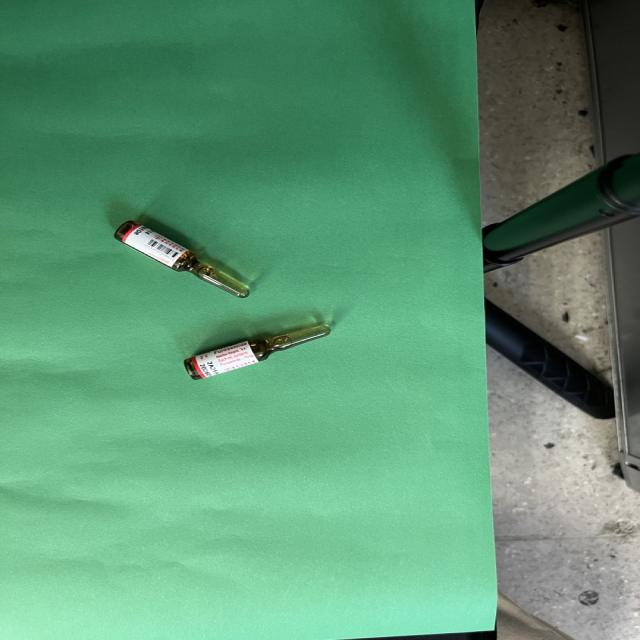Ampoules: (116, 222, 249, 297), (184, 325, 331, 380)
